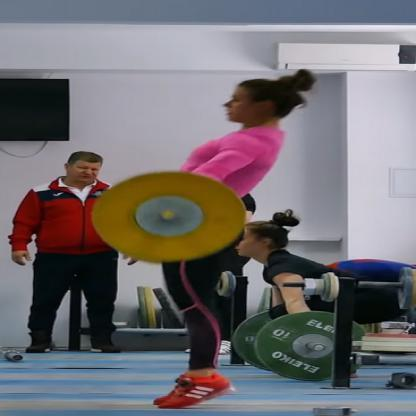barbell: (91, 170, 247, 263), (232, 308, 370, 384)
